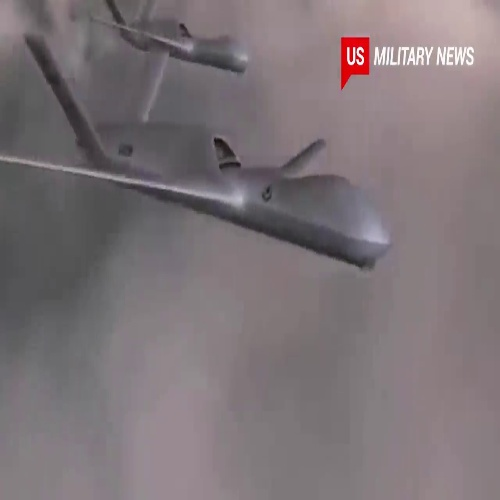uav415: (43, 96, 398, 275), (75, 1, 253, 86)
